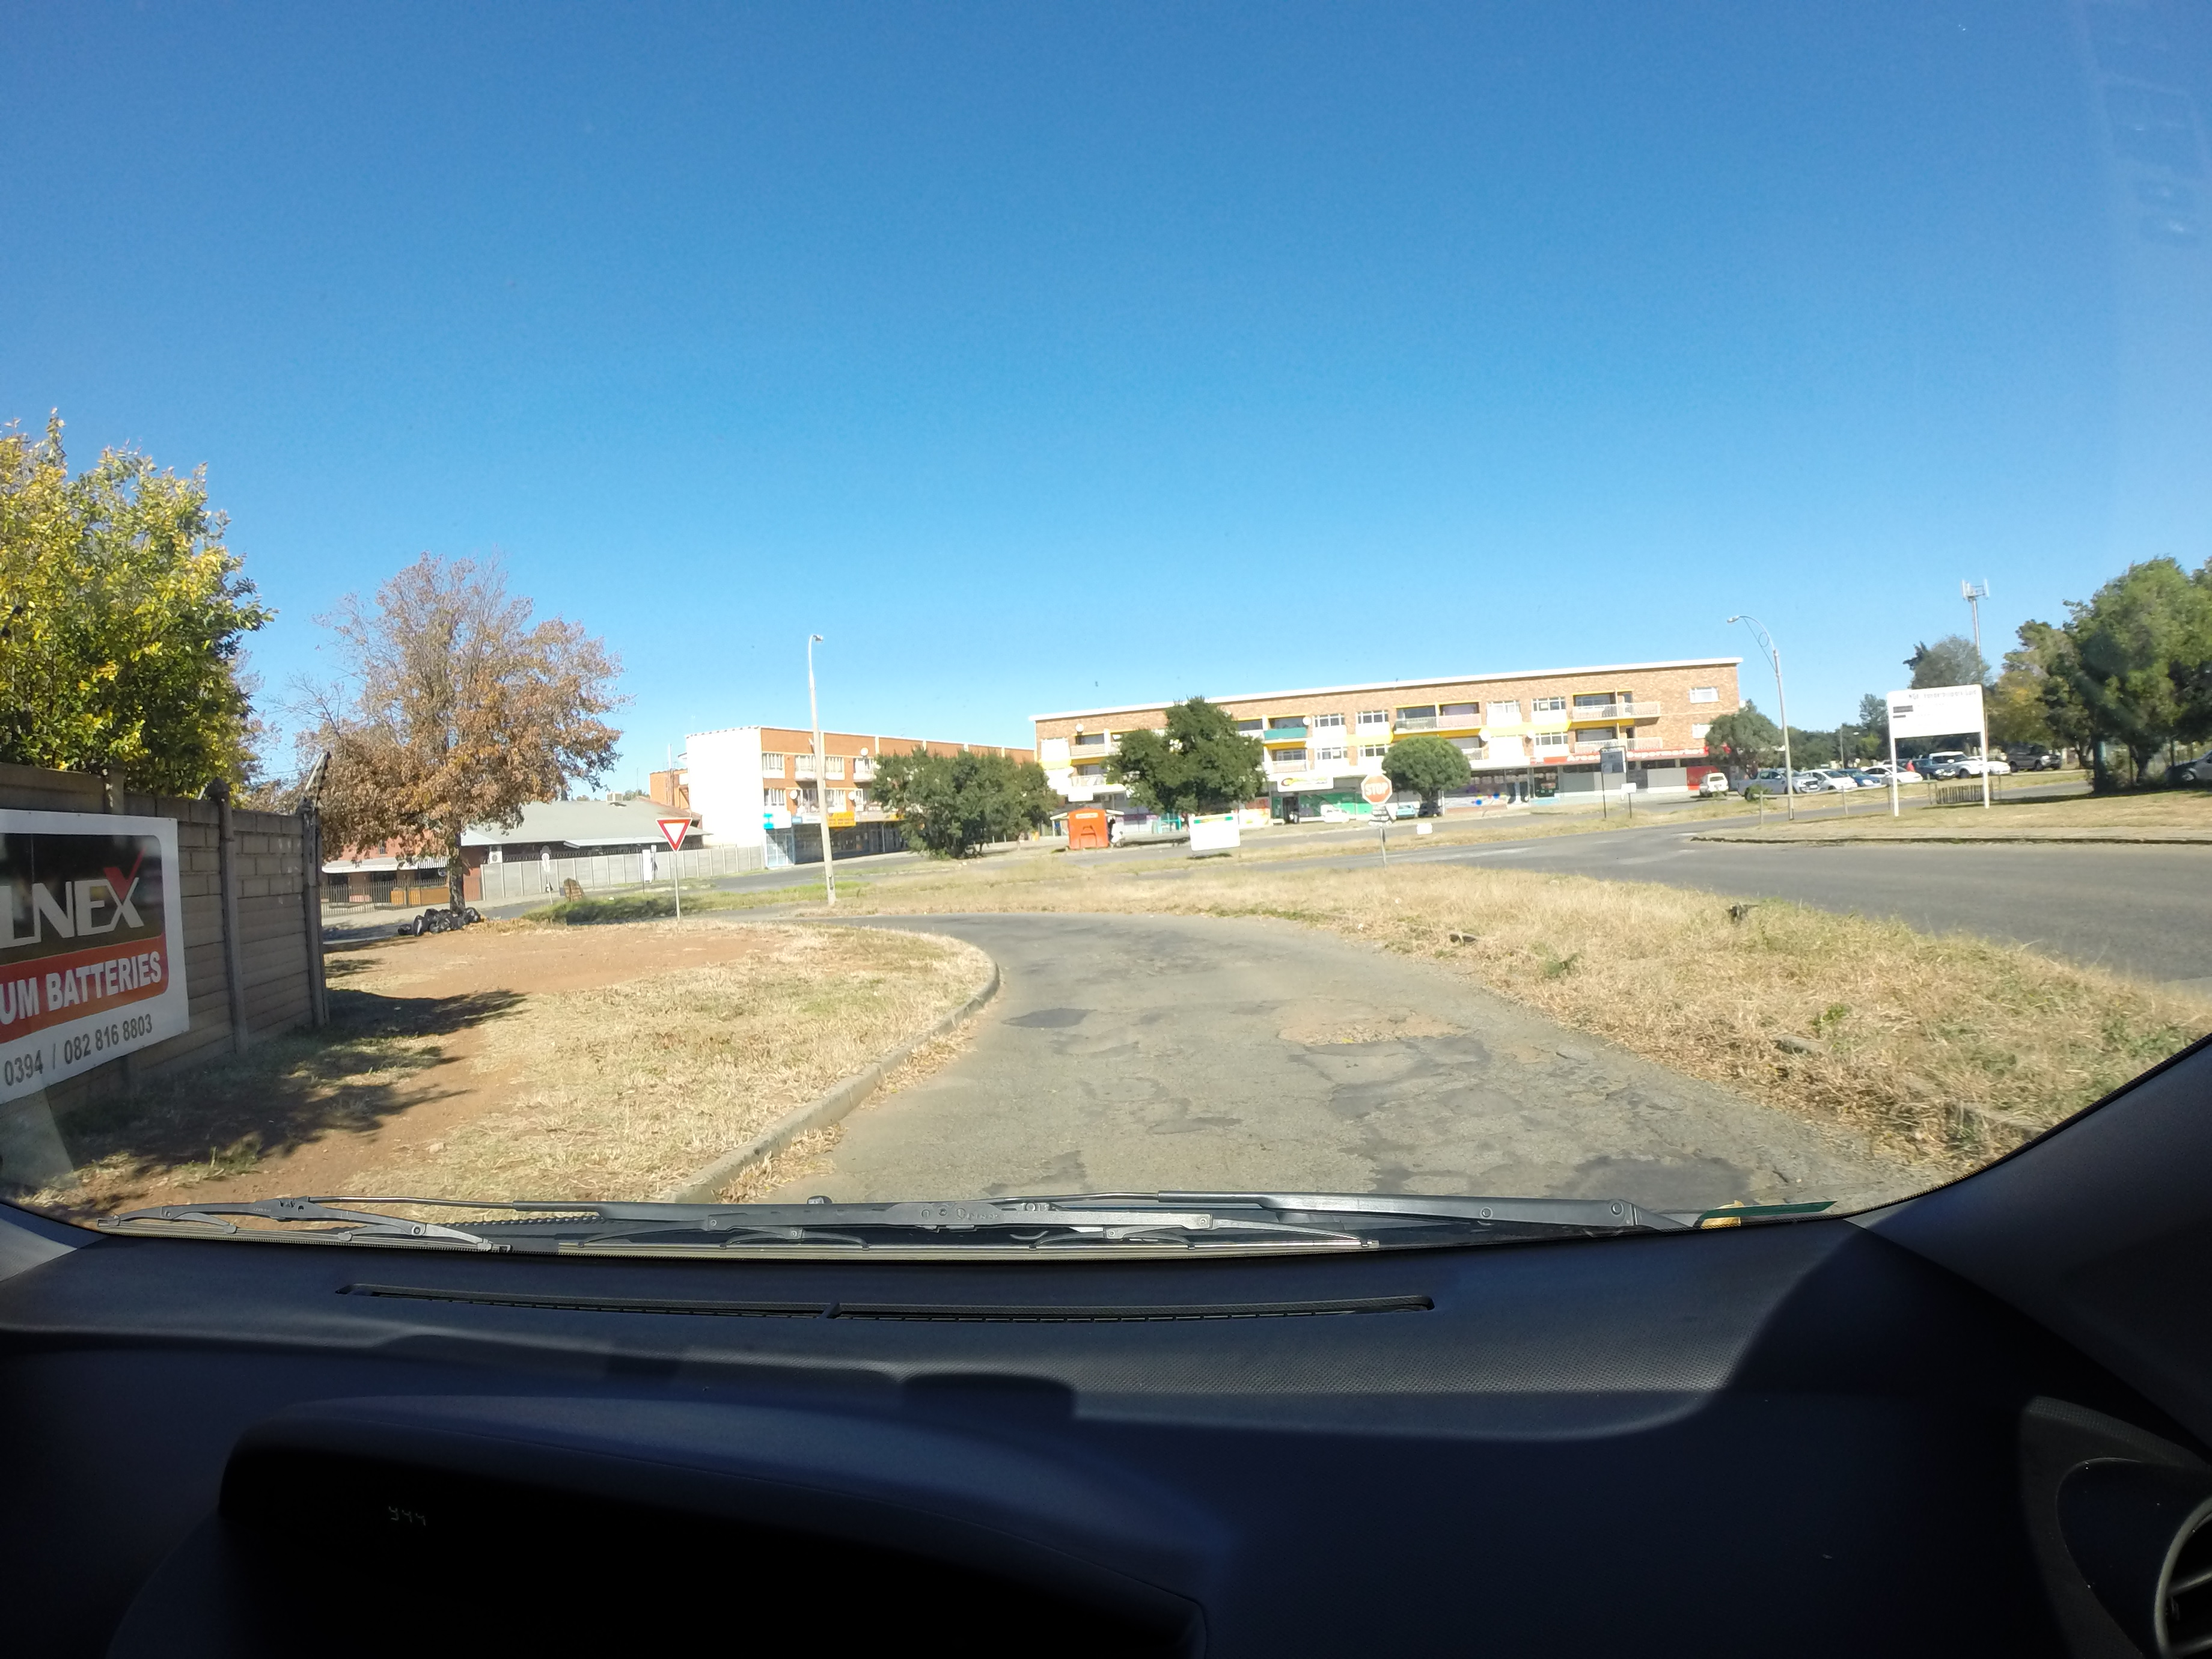pothole: (1249, 1002, 1474, 1077)
